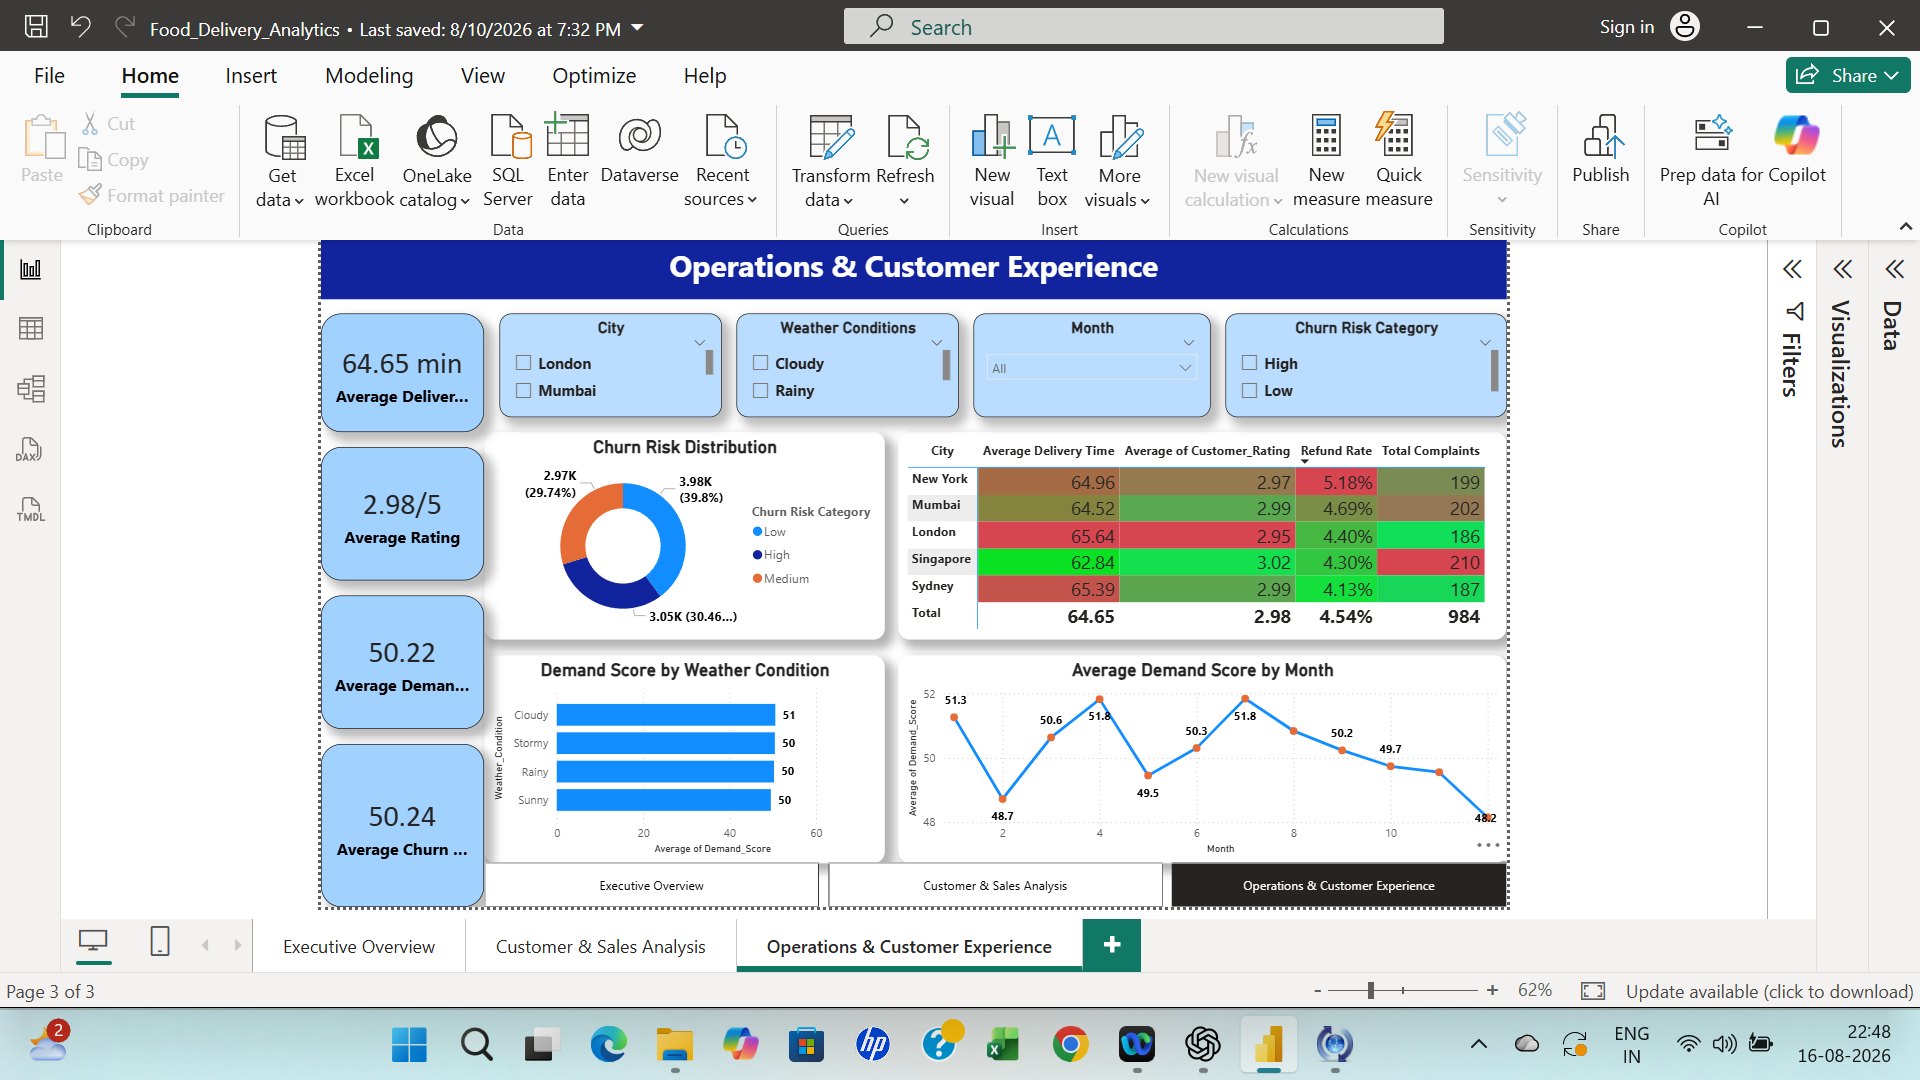

The page's visual inventory and layout, read from the dashboard file:
{"tool":"powerbi","page":{"name":"Operations & Customer Experience","canvas":[1280,720],"ordinal":2},"visuals":[{"type":"donutChart","title":"Churn Risk Distribution","fields":{"Y":["CountNonNull(Food_Delivery_Analytics.Order_ID)"],"Category":["Food_Delivery_Analytics.Churn Risk Category"]},"box":[176,208,432,224],"z":0},{"type":"clusteredBarChart","title":"Demand Score by Weather Condition","fields":{"Category":["Food_Delivery_Analytics.Weather_Condition"],"Y":["Avg(Food_Delivery_Analytics.Demand_Score)"]},"box":[176,448,432,224],"z":1000},{"type":"pivotTable","fields":{"Rows":["Food_Delivery_Analytics.City"],"Values":["Food_Delivery_Analytics.Average Delivery Time","Avg(Food_Delivery_Analytics.Customer_Rating)","Food_Delivery_Analytics.Refund Rate","Food_Delivery_Analytics.Total Complaints"]},"box":[624,208,656,224],"z":2000},{"type":"card","fields":{"Values":["Food_Delivery_Analytics.Average Delivery Time"]},"box":[0,80,176,128],"z":3000},{"type":"card","fields":{"Values":["Food_Delivery_Analytics.Average Rating"]},"box":[0,224,176,144],"z":4000},{"type":"card","fields":{"Values":["Food_Delivery_Analytics.Average Demand Score"]},"box":[0,384,176,144],"z":5000},{"type":"card","fields":{"Values":["Food_Delivery_Analytics.Average Churn Risk"]},"box":[0,544,176,176],"z":6000},{"type":"textbox","box":[0,0,1280,64],"z":7000},{"type":"lineChart","title":"Average Demand Score by Month","fields":{"Category":["Food_Delivery_Analytics.Month"],"Y":["Avg(Food_Delivery_Analytics.Demand_Score)"]},"box":[624,448,656,224],"z":8000},{"type":"pageNavigator","box":[176,672,1104,48],"z":9000},{"type":"slicer","title":"City","fields":{"Values":["Food_Delivery_Analytics.City"]},"box":[192,80,240,112],"z":10000},{"type":"slicer","title":"Weather Conditions","fields":{"Values":["Food_Delivery_Analytics.Weather_Condition"]},"box":[448,80,240,112],"z":11000},{"type":"slicer","title":"Month","fields":{"Values":["Food_Delivery_Analytics.Month"]},"box":[704,80,256,112],"z":12000},{"type":"slicer","title":"Churn Risk Category","fields":{"Values":["Food_Delivery_Analytics.Churn Risk Category"]},"box":[976,80,304,112],"z":13000}]}

Visuals, with their boxes on the page's 1280x720 design canvas (x1, y1, x2, y2). These are canvas units, not pixel positions in the 1920x1080 screenshot, which may show the page scaled, cropped or inside an application window:
"Churn Risk Distribution" donutChart: x1=176, y1=208, x2=608, y2=432
"Demand Score by Weather Condition" clusteredBarChart: x1=176, y1=448, x2=608, y2=672
pivotTable - Food_Delivery_Analytics.City x Food_Delivery_Analytics.Average Delivery Time: x1=624, y1=208, x2=1280, y2=432
card - Food_Delivery_Analytics.Average Delivery Time: x1=0, y1=80, x2=176, y2=208
card - Food_Delivery_Analytics.Average Rating: x1=0, y1=224, x2=176, y2=368
card - Food_Delivery_Analytics.Average Demand Score: x1=0, y1=384, x2=176, y2=528
card - Food_Delivery_Analytics.Average Churn Risk: x1=0, y1=544, x2=176, y2=720
textbox: x1=0, y1=0, x2=1280, y2=64
"Average Demand Score by Month" lineChart: x1=624, y1=448, x2=1280, y2=672
pageNavigator: x1=176, y1=672, x2=1280, y2=720
"City" slicer: x1=192, y1=80, x2=432, y2=192
"Weather Conditions" slicer: x1=448, y1=80, x2=688, y2=192
"Month" slicer: x1=704, y1=80, x2=960, y2=192
"Churn Risk Category" slicer: x1=976, y1=80, x2=1280, y2=192
